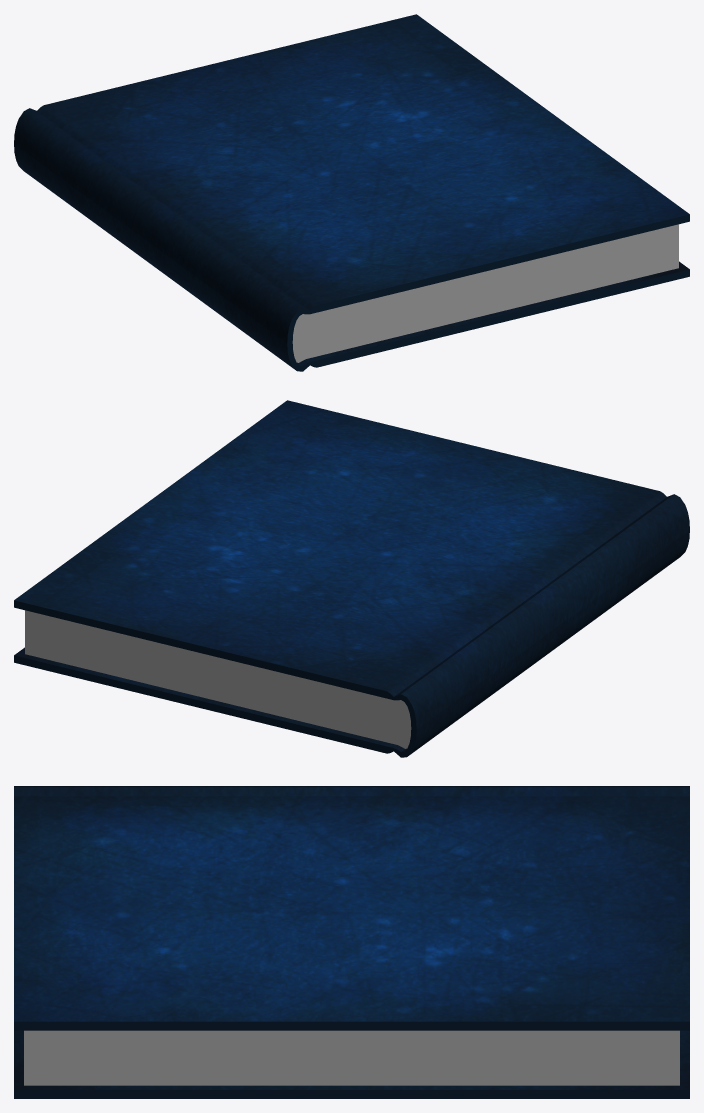
Rendered from SpareBook_Final.fbx.
The picture shows the model from 3 angles, top to bottom: view 1: azimuth 30°, elevation 25°; view 2: azimuth 150°, elevation 25°; view 3: azimuth 270°, elevation 25°; orthographic projection. The views are drawn at different scales.
Parts seen in each view (by area): view 1: bookbase_prop, pages_prop; view 2: bookbase_prop, pages_prop; view 3: bookbase_prop, pages_prop.
Boxes of the visible parts, x1=… form: bookbase_prop: x1=14, y1=14, x2=689, y2=371; pages_prop: x1=292, y1=224, x2=678, y2=362; bookbase_prop: x1=14, y1=400, x2=689, y2=757; pages_prop: x1=25, y1=610, x2=411, y2=748; bookbase_prop: x1=14, y1=786, x2=689, y2=1098; pages_prop: x1=24, y1=1030, x2=679, y2=1085.
Bounding box in the file's own units: 28.94 × 4.37 × 34.02.
